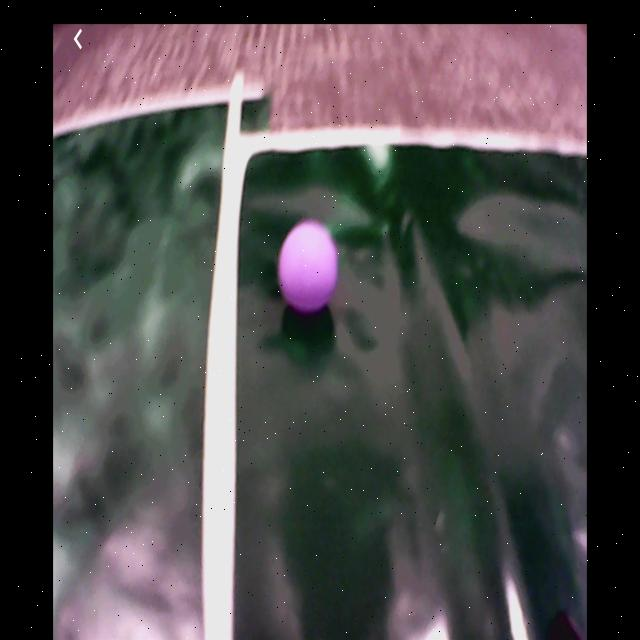ball: (278, 221, 338, 310)
